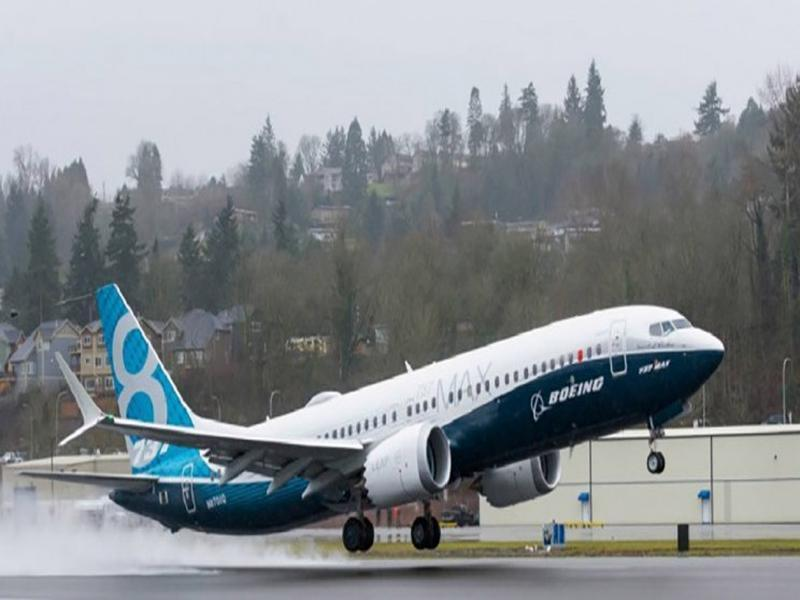737-MAX: (1, 256, 731, 562)
